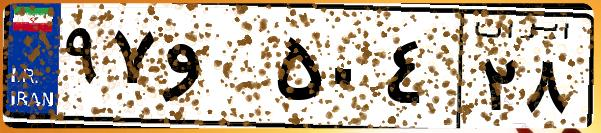0: (330, 28, 385, 110)
2: (475, 38, 525, 113)
4: (385, 28, 445, 110)
5: (270, 28, 330, 110)
7: (110, 28, 158, 98)
8: (525, 38, 570, 115)
9: (57, 26, 110, 100)
و: (158, 20, 270, 120)
